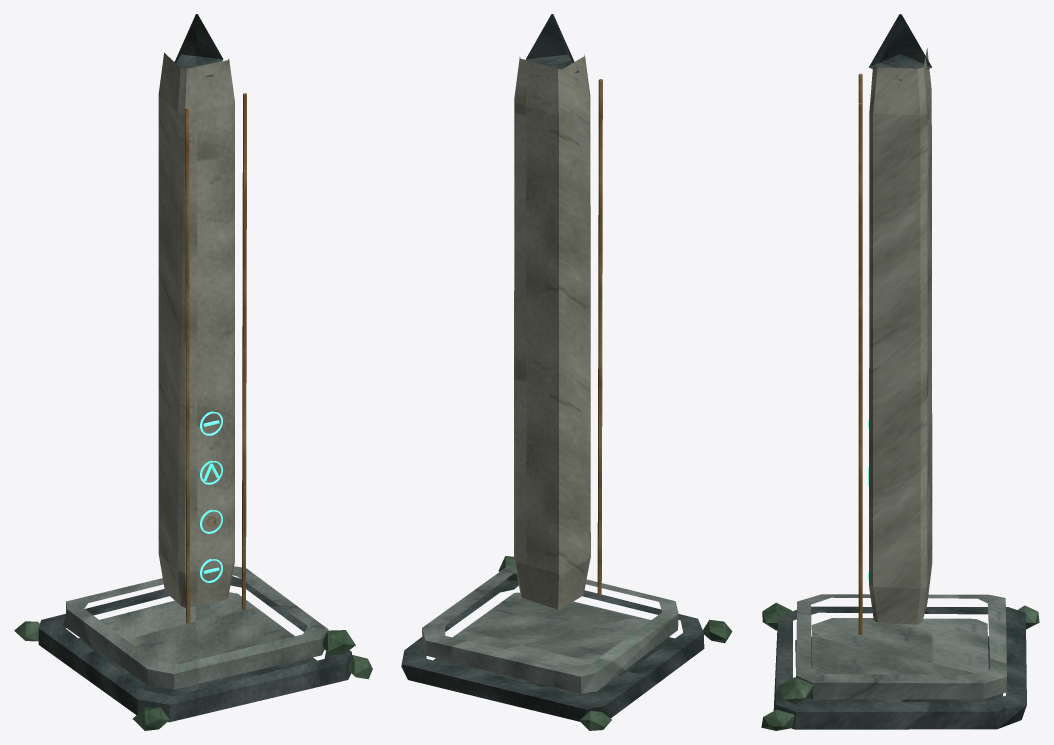
File: 0486_obelisk_11.glb
3 views of the same model, side by side, from view 1: azimuth 30°, elevation 25°; view 2: azimuth 150°, elevation 25°; view 3: azimuth 270°, elevation 25° (orthographic). The views are drawn at different scales.
Visible parts, largest first — view 1: stone_light, stone, stone_dark, brass, moss, glow; view 2: stone_light, stone, stone_dark, brass, moss; view 3: stone_light, stone, stone_dark, brass, moss.
Boxes of the visible parts, x1,y1,x2,y2 form: stone_light: (158,52,234,607); stone: (63,566,328,689); stone_dark: (38,14,351,722); brass: (185,93,246,623); moss: (14,621,372,730); glow: (200,411,222,582); stone_light: (514,54,590,609); stone: (422,566,678,693); stone_dark: (401,14,704,721); brass: (597,79,602,595); moss: (498,556,732,730); stone_light: (869,48,932,624); stone: (796,594,1006,699); stone_dark: (773,14,1026,729); brass: (858,73,862,634); moss: (761,602,1039,730).
Size of the model in its own units: 2.08 by 5.53 by 2.1.
6 materials, 6 textured.
